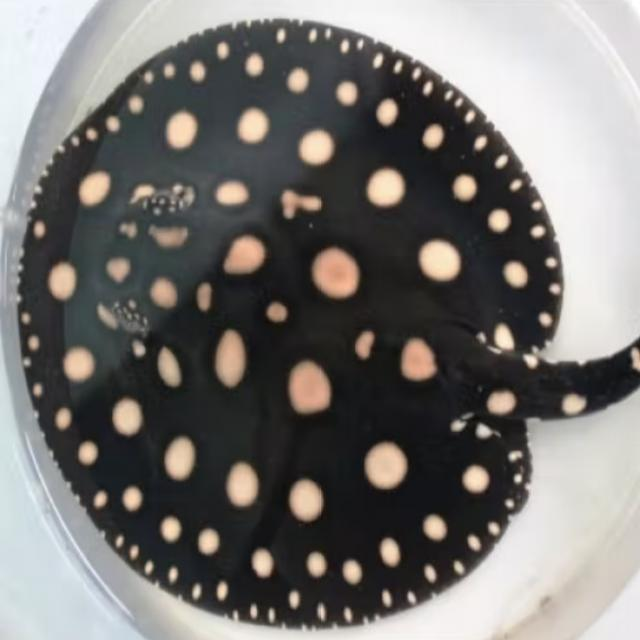black-diamond-sting-ray: (19, 5, 640, 631)
